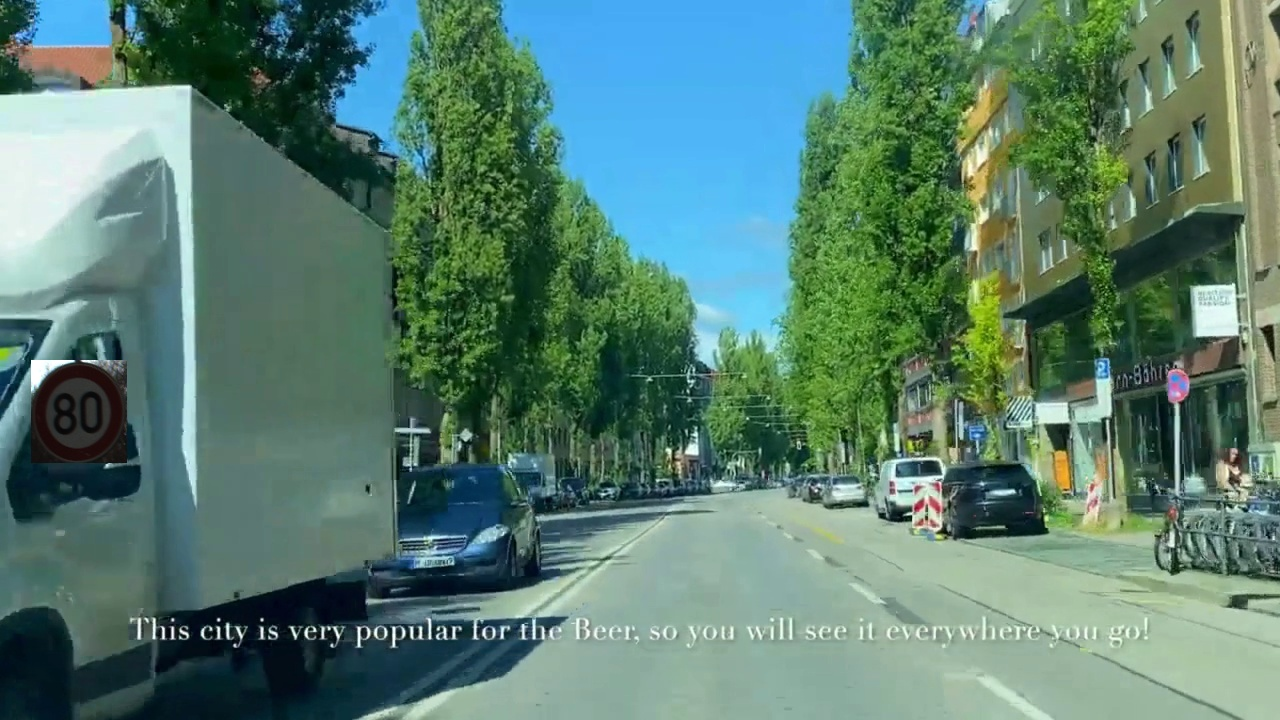Speed 80: (31, 360, 127, 463)
